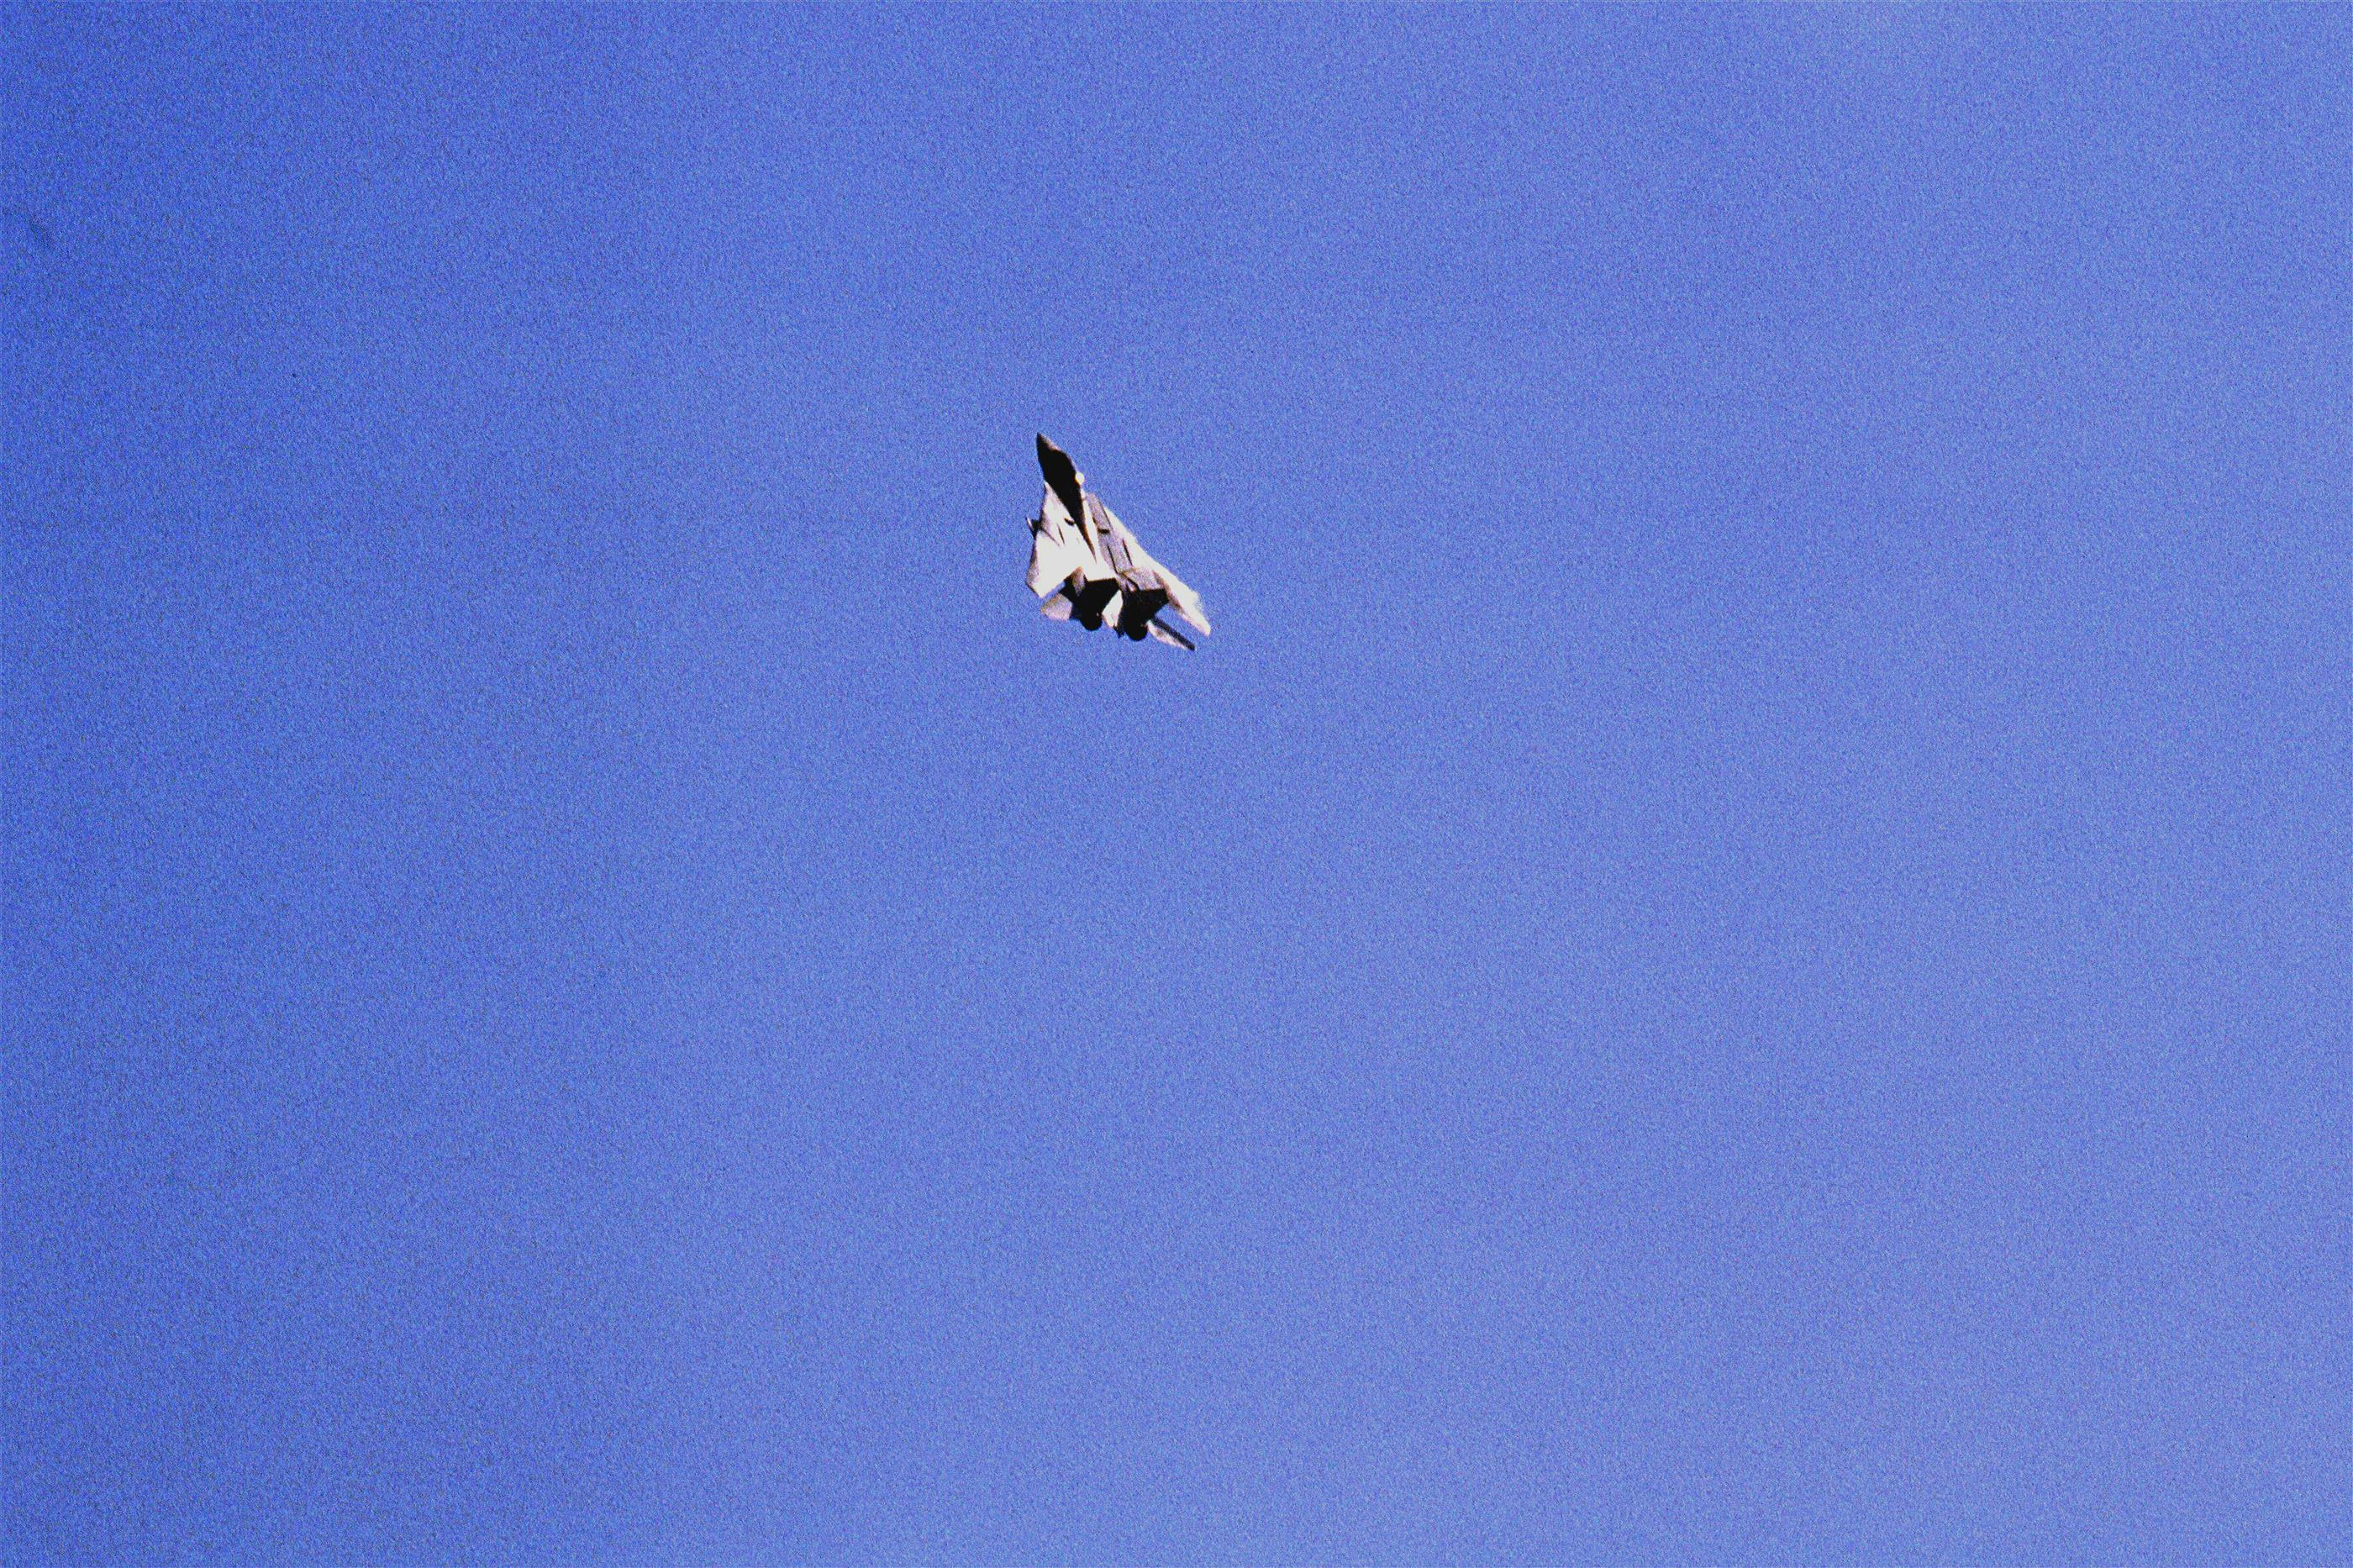F14: (1023, 430, 1211, 653)
